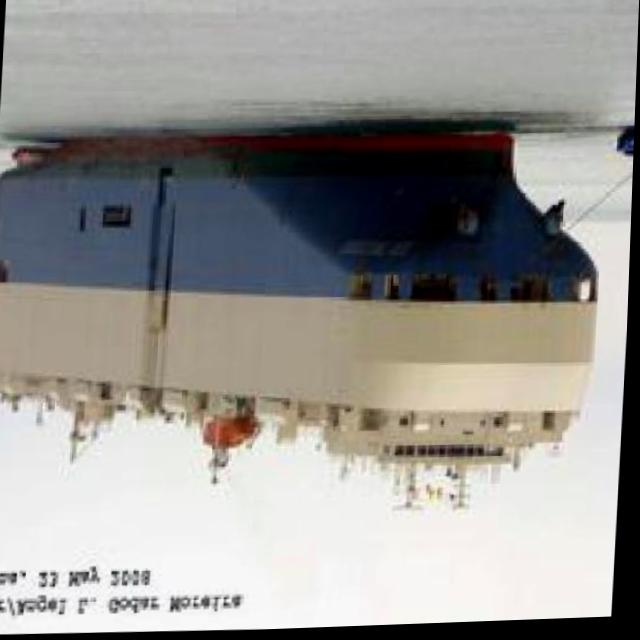ship2: (0, 121, 602, 512)
